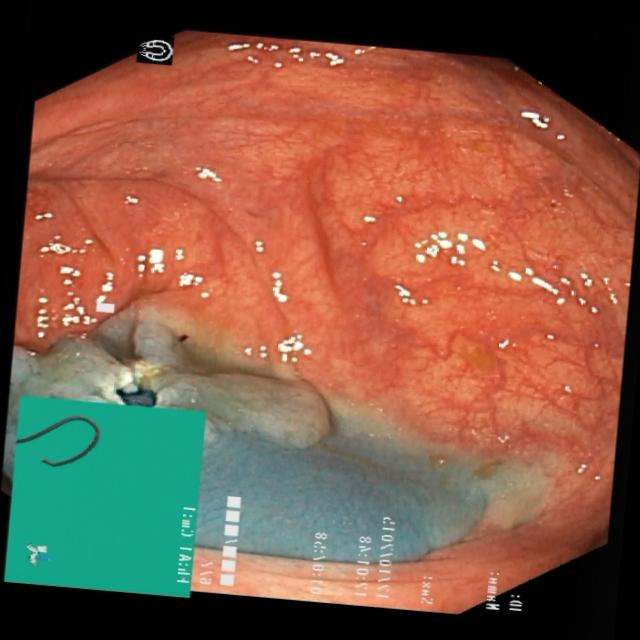dyed-resection-margins: (6, 285, 341, 447)
